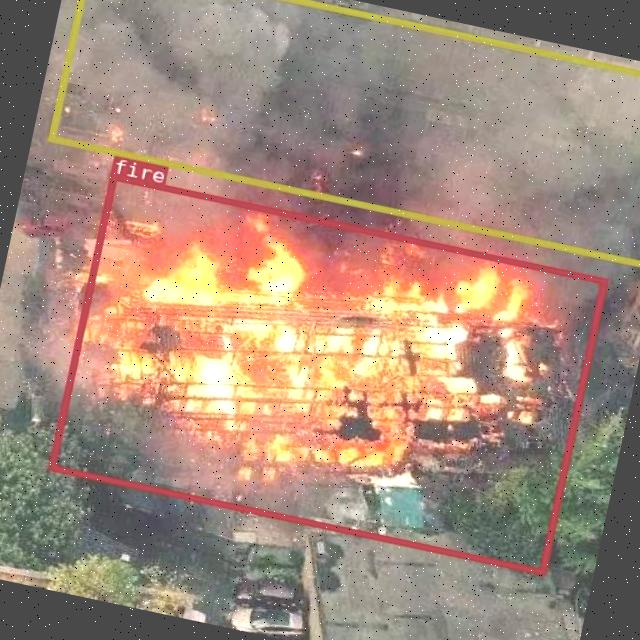fire: (46, 172, 607, 574)
smoke: (47, 0, 640, 267)
